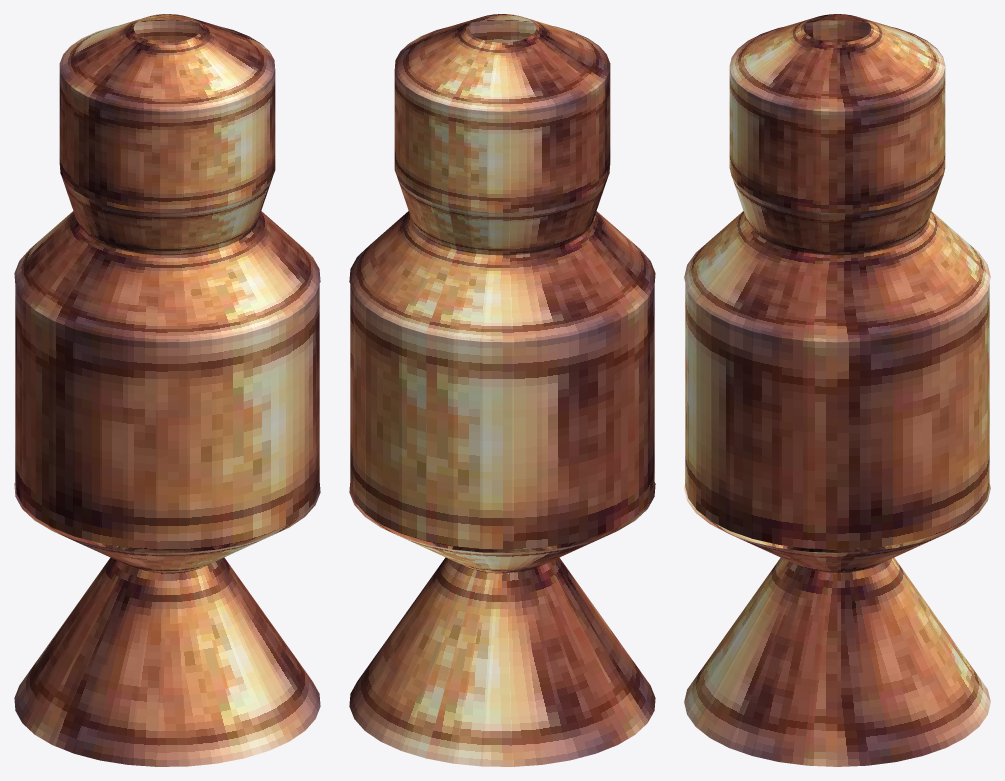
Rendered from laver.glb.
3 views of the same model, side by side, from view 1: azimuth 30°, elevation 25°; view 2: azimuth 150°, elevation 25°; view 3: azimuth 270°, elevation 25° (orthographic).
Visible parts, largest first — view 1: Cylinder; view 2: Cylinder; view 3: Cylinder.
Part boxes in pixels (x1,y1,x2,y2): Cylinder: [14, 14, 320, 766]; Cylinder: [349, 14, 655, 766]; Cylinder: [684, 14, 990, 766].
Bounding box in the file's own units: 2.01 × 4.88 × 2.01.
Materials: 1 (1 with a texture image).
